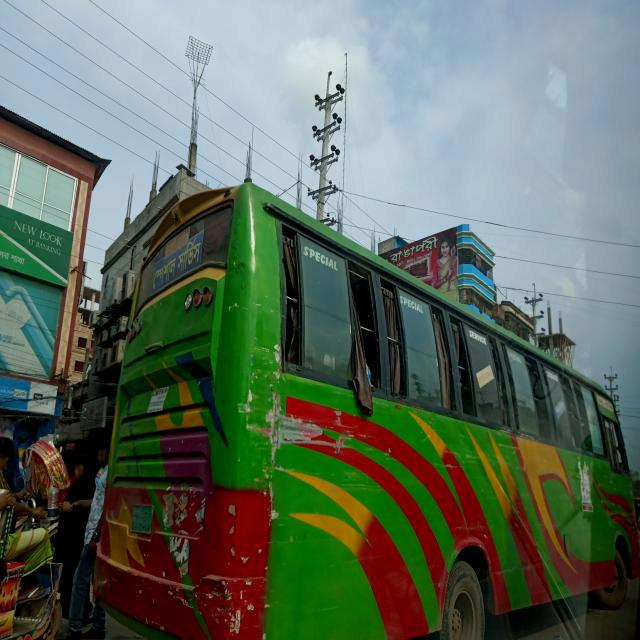bus: (90, 184, 640, 640)
